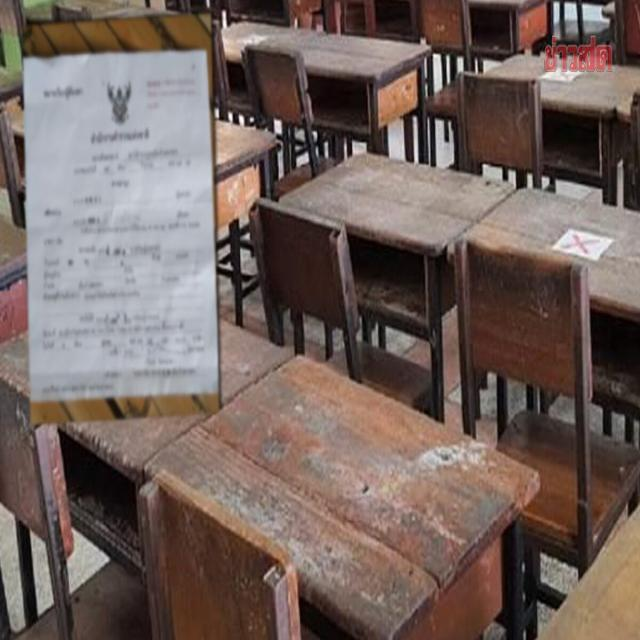table: (138, 352, 538, 624), (280, 100, 472, 279), (478, 144, 638, 320), (212, 10, 432, 130), (478, 27, 636, 136)
